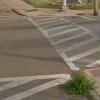Crosswalk: (30, 5, 94, 76)
